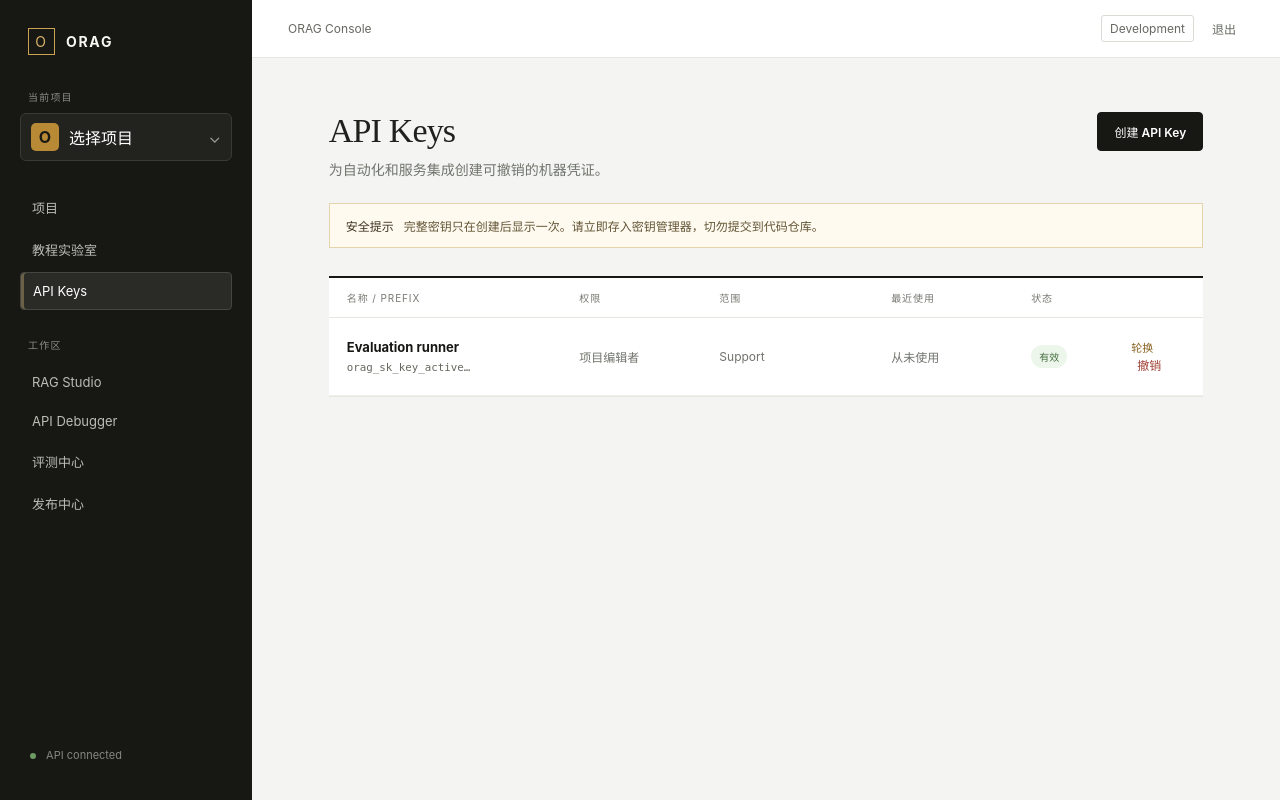
Test: APIKeyList › requires confirmation before revoking an active key
Click the button "撤销" at (1149, 364), box [1131,355,1167,374]
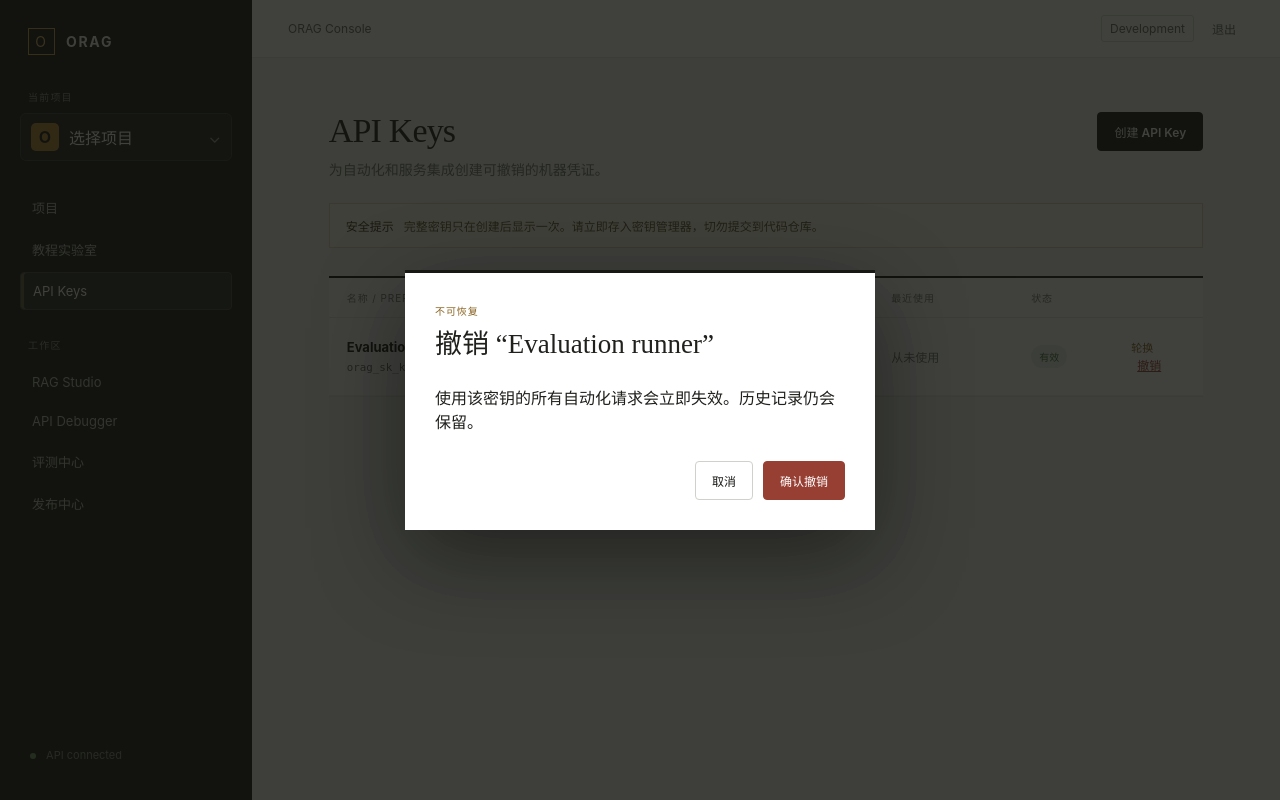
Expected: the text "使用该密钥的所有自动化请求会立即失效。历史记录仍会保留。" is shown, [435,385,845,433]
Click the button "确认撤销" at (804, 481), box [763,461,845,500]
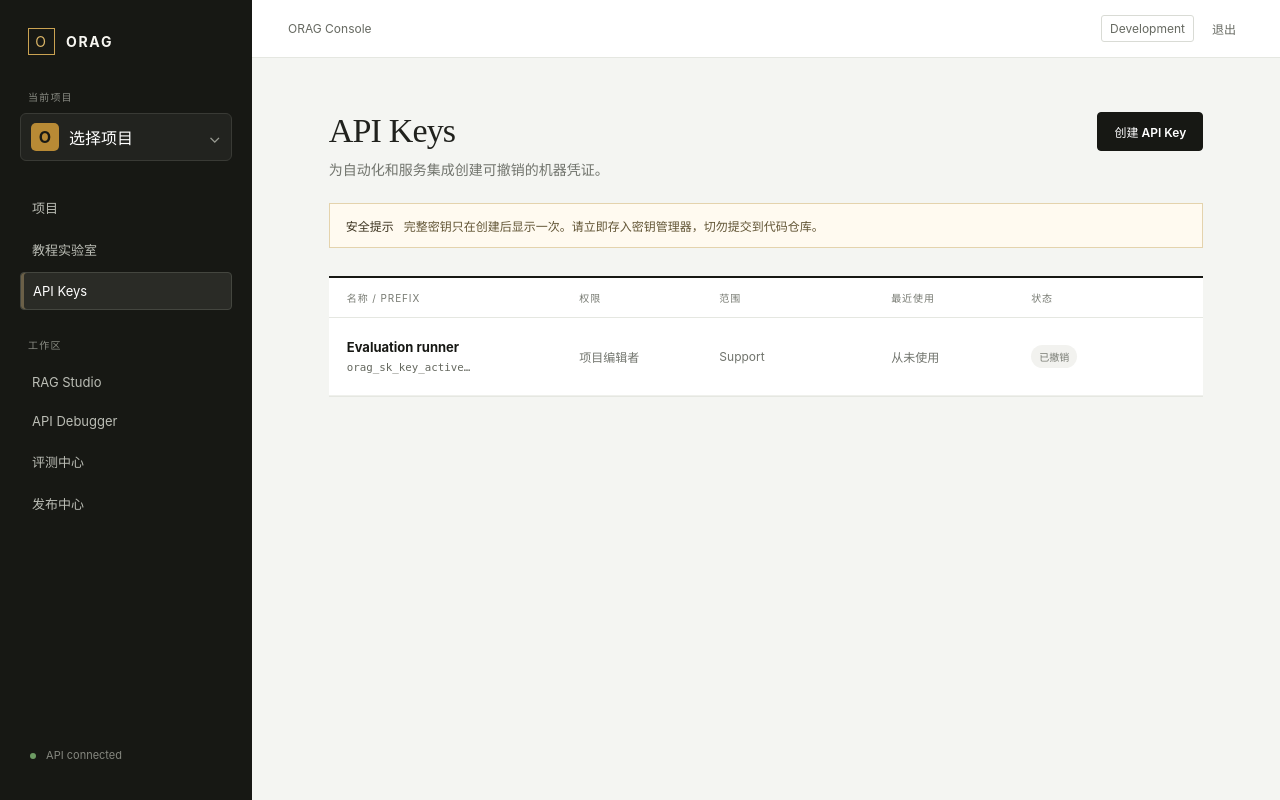
Expected: the dialog is gone
Expected: the text "已撤销" is shown, [1031,345,1077,368]
